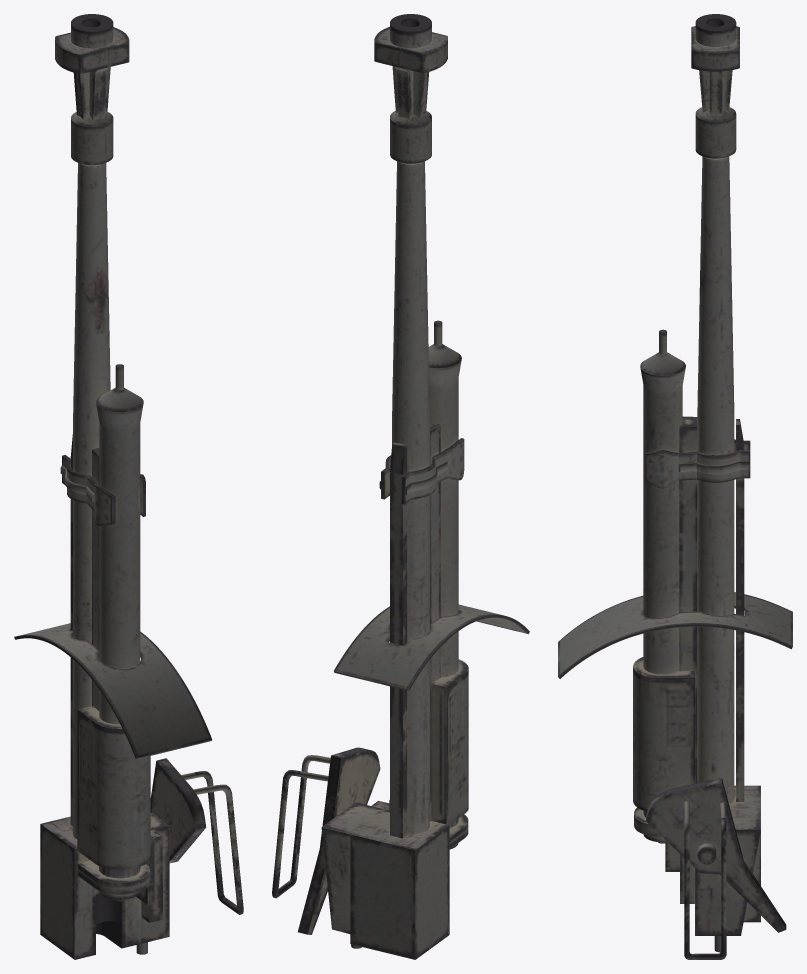
The model's file is Gun_02.glb.
3 views of the same model, side by side, from view 1: azimuth 30°, elevation 25°; view 2: azimuth 150°, elevation 25°; view 3: azimuth 270°, elevation 25° (orthographic). The views are drawn at different scales.
Parts seen in each view (by area): view 1: set_0_group_0; view 2: set_0_group_0; view 3: set_0_group_0.
Part boxes in pixels (<box>): set_0_group_0: <box>14,14,243,959</box>; set_0_group_0: <box>272,14,529,959</box>; set_0_group_0: <box>558,14,792,959</box>.
Size of the model in its own units: 0.4388 by 2.27 by 0.5339.
Materials: 1 (1 with a texture image).
